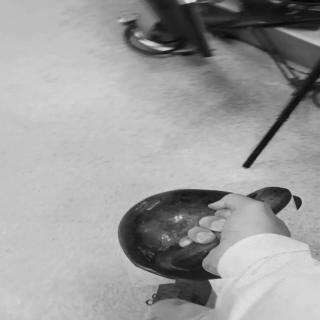kettlebell: (111, 183, 311, 285)
